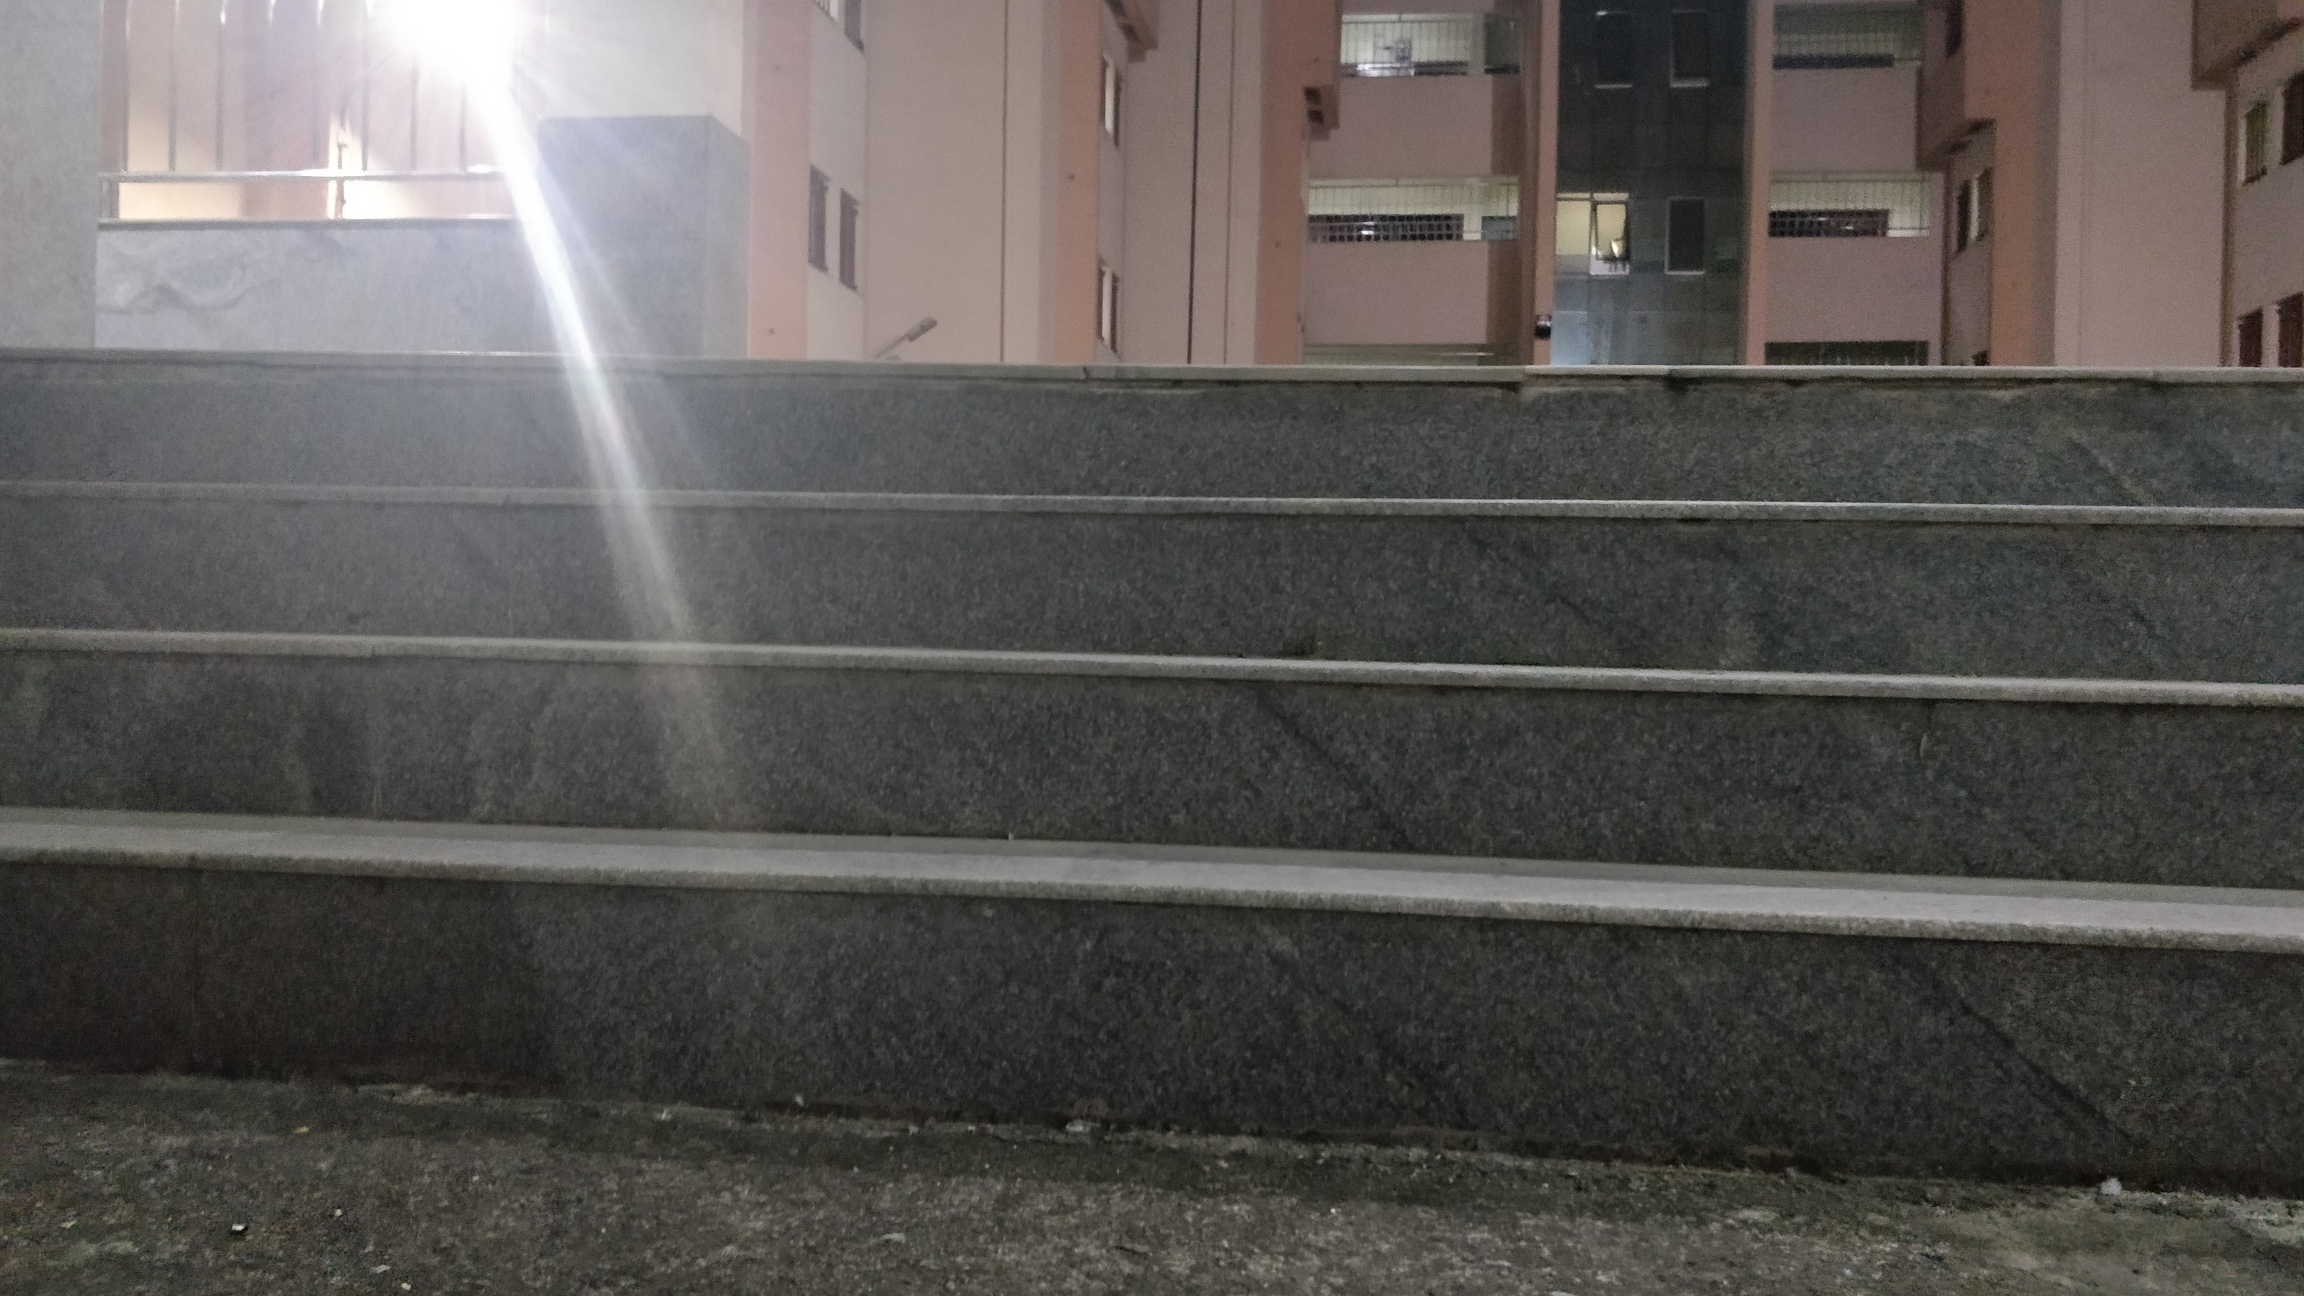stairs_up: (108, 358, 2304, 1180)
